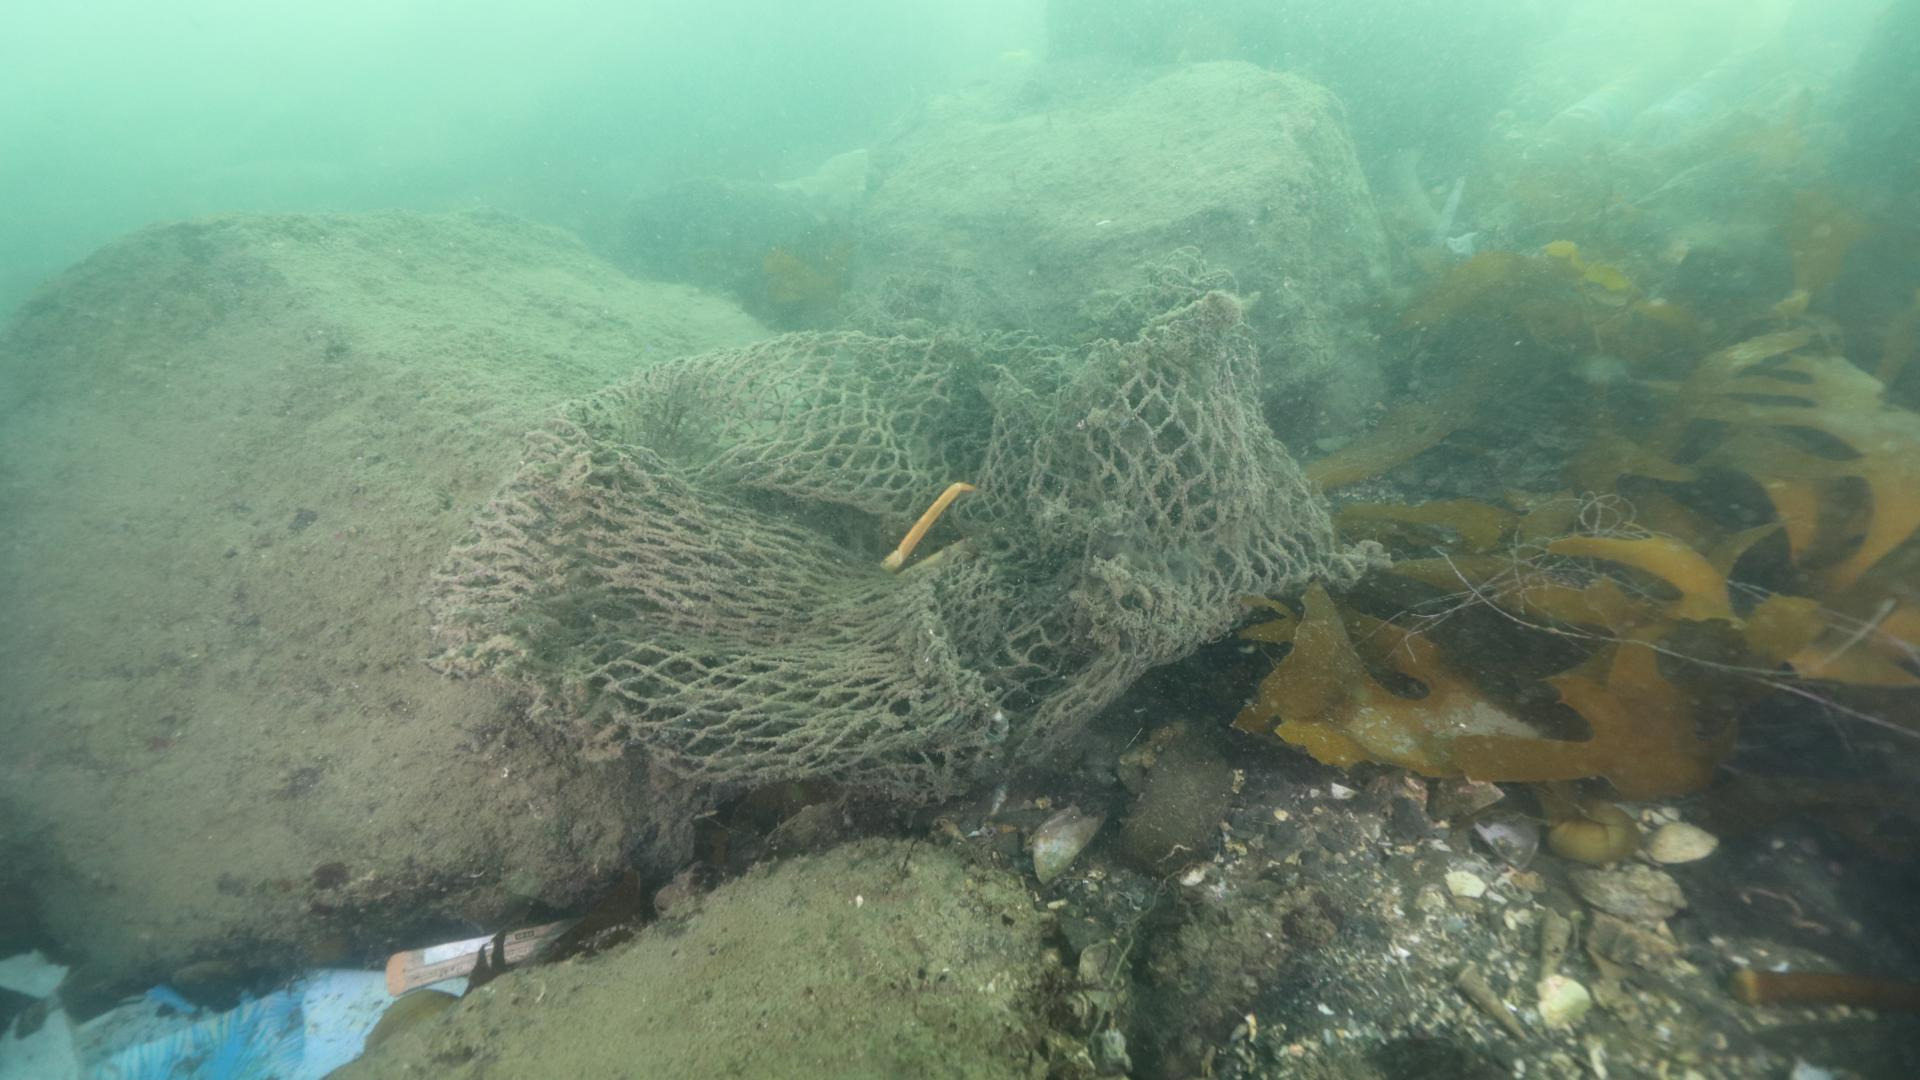fish net: (417, 284, 1338, 804)
